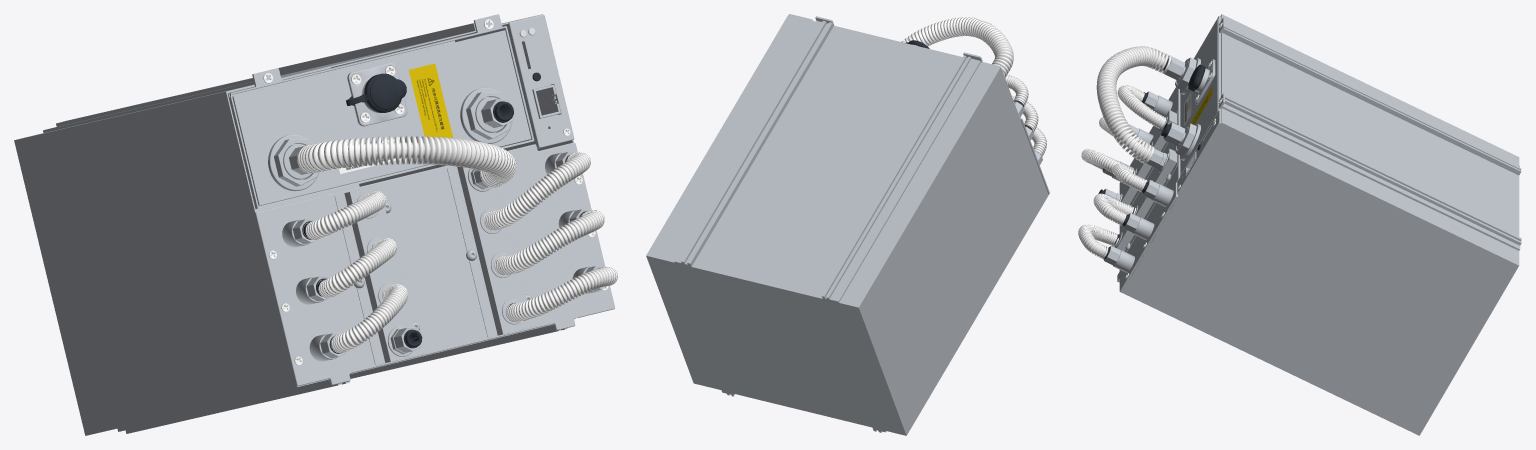
Rendered from s21-hydro.glb.
The picture shows the model from 3 angles, left to right: view 1: azimuth 30°, elevation 25°; view 2: azimuth 150°, elevation 25°; view 3: azimuth 270°, elevation 25°; orthographic projection. The views are drawn at different scales.
Parts seen in each view (by area): view 1: S21 Hydro; view 2: S21 Hydro; view 3: S21 Hydro.
Part boxes in pixels (left/top/right/bottom): S21 Hydro: left=14, top=14, right=617, bottom=435; S21 Hydro: left=646, top=14, right=1049, bottom=435; S21 Hydro: left=1078, top=14, right=1521, bottom=435.
Size of the model in its own units: 0.5607 by 0.78 by 0.9635.
7 materials, 2 textured.
